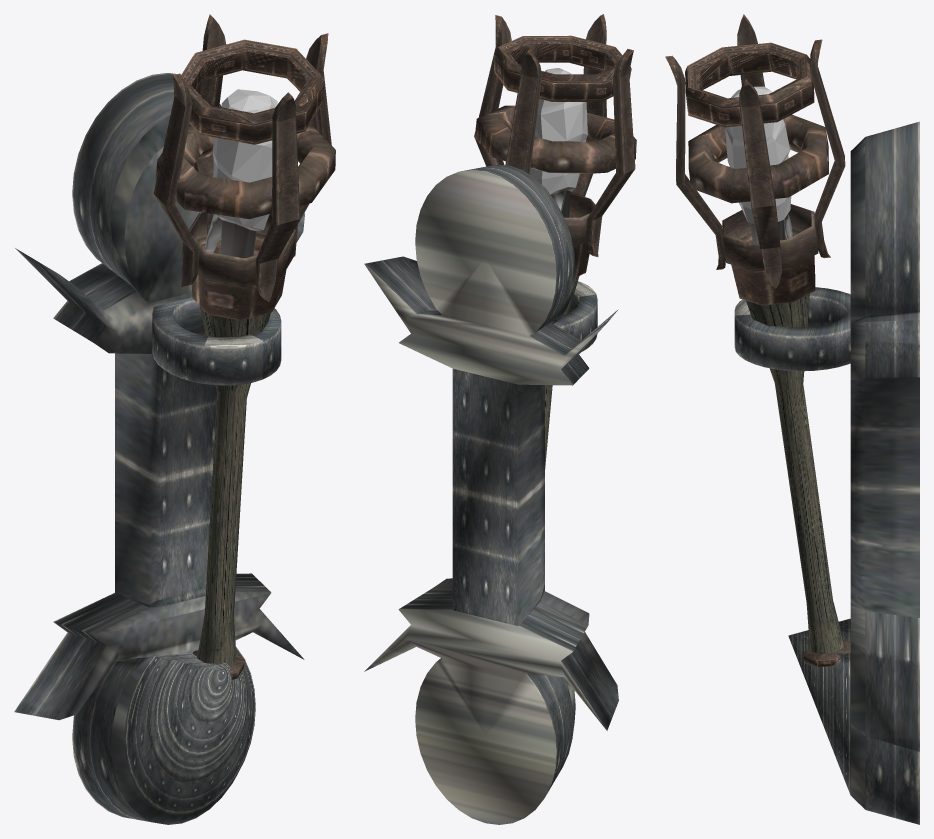
File: WallTorch01.fbx
The picture shows the model from 3 angles, left to right: view 1: azimuth 30°, elevation 25°; view 2: azimuth 150°, elevation 25°; view 3: azimuth 270°, elevation 25°; orthographic projection. The views are drawn at different scales.
Visible parts, largest first — view 1: Holder.00, TorchCover, TorchHandle, FlameCap, Torch02; view 2: Holder.00, TorchCover, FlameCap; view 3: Holder.00, TorchCover, TorchHandle, FlameCap.
Boxes of the visible parts, <box> form: Holder.00: <box>14,73,304,824</box>; TorchCover: <box>153,14,335,679</box>; TorchHandle: <box>197,306,270,665</box>; FlameCap: <box>212,89,277,229</box>; Torch02: <box>204,214,262,258</box>; Holder.00: <box>364,164,618,824</box>; TorchCover: <box>474,14,636,277</box>; FlameCap: <box>530,68,587,194</box>; Holder.00: <box>734,121,919,824</box>; TorchCover: <box>665,14,850,667</box>; TorchHandle: <box>746,294,843,654</box>; FlameCap: <box>725,86,791,223</box>.
Size of the model in its own units: 2.09 by 6.05 by 1.79.
